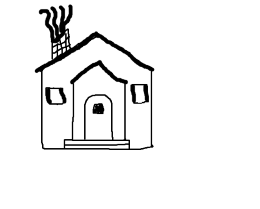door: (80, 92, 117, 141)
open_window: (44, 83, 69, 108), (127, 81, 151, 105)
single_line_roof: (20, 29, 162, 75)
smoking_chimney: (37, 2, 75, 56)
wall: (32, 70, 155, 157)
